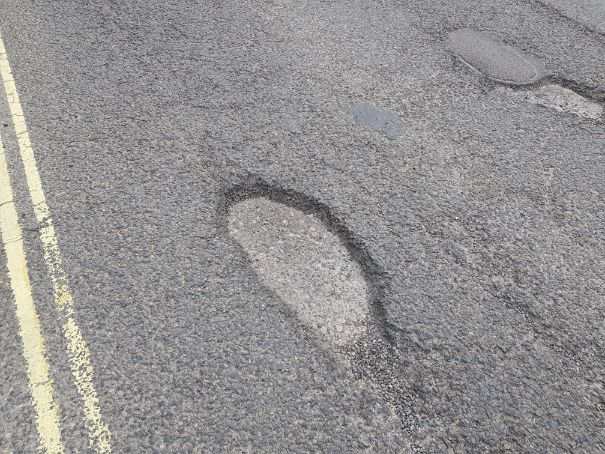pothole: (210, 174, 408, 372), (479, 67, 605, 119)
